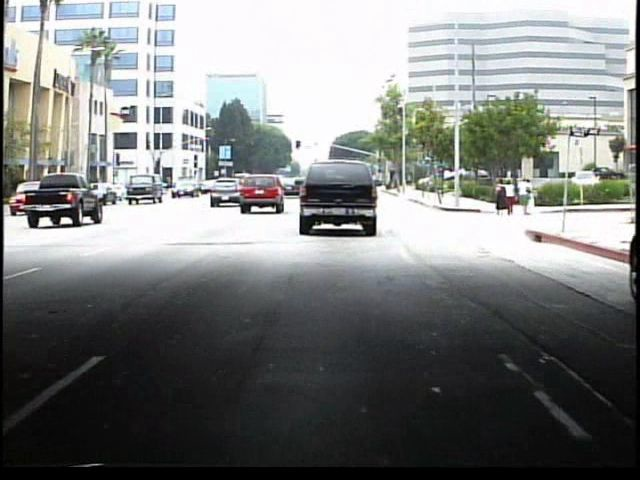person: (518, 177, 534, 219), (491, 178, 506, 215), (503, 179, 517, 217)
